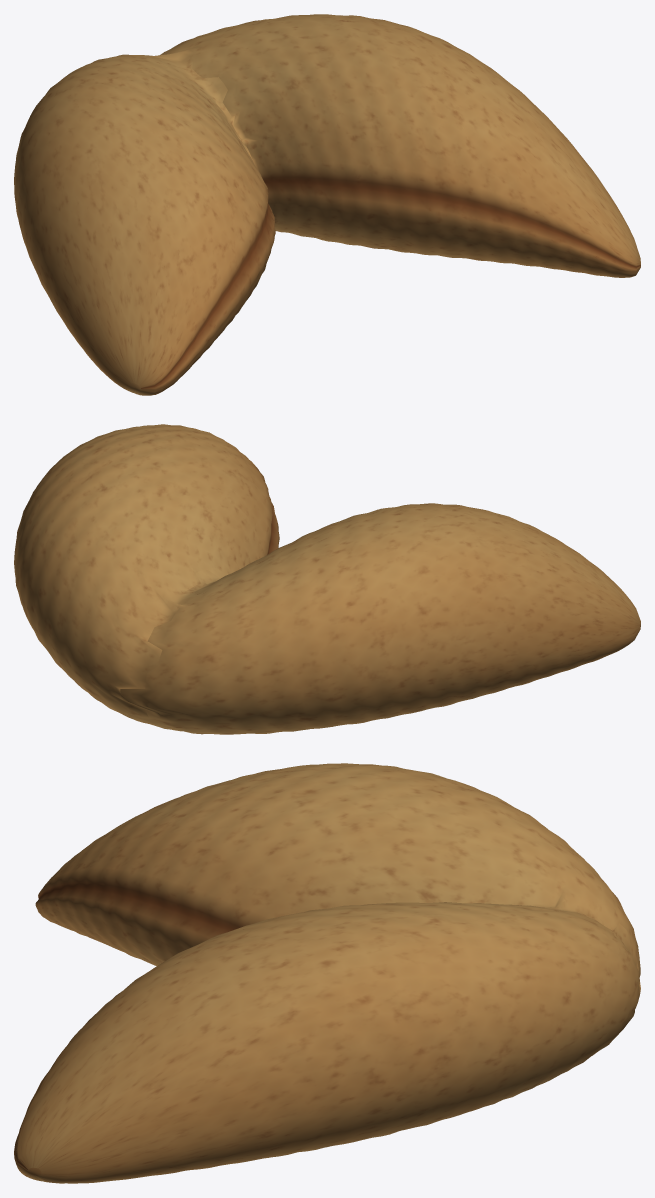
Rendered from fortune-cookie-broken.glb.
3 renders of one model, top to bottom at view 1: azimuth 30°, elevation 25°; view 2: azimuth 150°, elevation 25°; view 3: azimuth 270°, elevation 25°, orthographic. The views are drawn at different scales.
Parts seen in each view (by area): view 1: RightHalf, LeftHalf; view 2: LeftHalf, RightHalf; view 3: RightHalf, LeftHalf.
Boxes of the visible parts, left/top/right/bottom form: RightHalf: left=160, top=14, right=640, bottom=277; LeftHalf: left=14, top=52, right=275, bottom=395; LeftHalf: left=120, top=503, right=640, bottom=734; RightHalf: left=14, top=424, right=279, bottom=723; RightHalf: left=14, top=900, right=640, bottom=1183; LeftHalf: left=35, top=763, right=640, bottom=976.
Bounding box in the file's own units: 2.67 × 0.8919 × 2.37.
3 materials, 1 textured.
